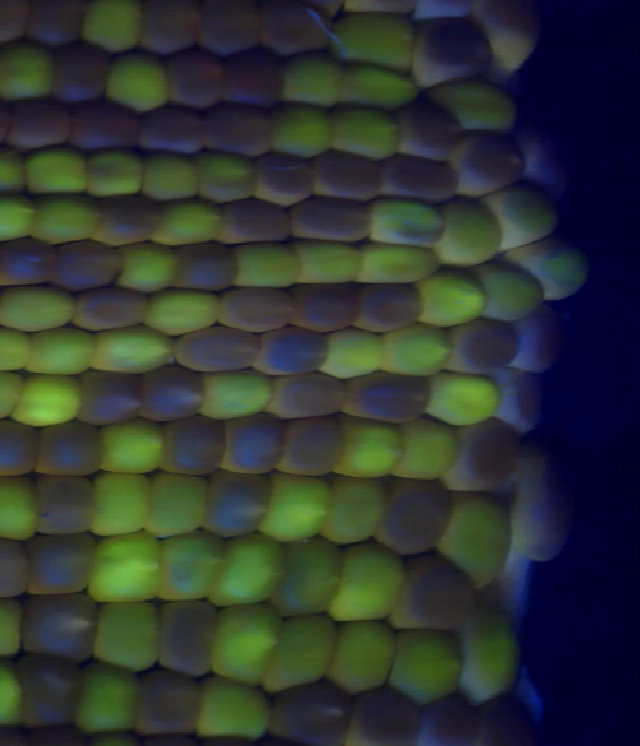fluorescent: (446, 488, 507, 582), (333, 545, 406, 620), (212, 531, 283, 608), (262, 614, 328, 694), (274, 531, 335, 617), (326, 613, 390, 694), (459, 614, 519, 700), (491, 178, 557, 253), (267, 466, 329, 542), (88, 602, 158, 669), (88, 533, 158, 600), (441, 201, 506, 272), (86, 465, 152, 534), (393, 639, 459, 705), (367, 191, 442, 249), (394, 416, 454, 484), (0, 285, 83, 334), (80, 663, 139, 730), (515, 240, 588, 291), (149, 471, 209, 533), (212, 605, 258, 685), (200, 685, 268, 739), (165, 530, 212, 608), (93, 418, 159, 473), (425, 372, 491, 426), (23, 142, 90, 195), (90, 331, 170, 375), (355, 242, 445, 281), (107, 65, 175, 116), (336, 17, 412, 62), (342, 420, 403, 475), (438, 78, 510, 124), (197, 150, 254, 208), (381, 324, 448, 373), (336, 104, 399, 156), (284, 53, 348, 104), (484, 262, 539, 321), (87, 1, 146, 55), (344, 60, 407, 110), (26, 326, 90, 375), (3, 45, 58, 102), (200, 373, 271, 417), (142, 149, 199, 201), (36, 198, 103, 242), (0, 478, 45, 543), (330, 478, 377, 540), (317, 330, 381, 373), (158, 202, 225, 242), (90, 152, 145, 200), (149, 291, 216, 330), (280, 110, 336, 156), (419, 287, 487, 324), (23, 384, 90, 421), (238, 249, 302, 285), (306, 240, 358, 278), (115, 245, 177, 275), (0, 194, 33, 237), (0, 330, 30, 375)
nonfluorescent: (410, 18, 504, 82), (375, 478, 448, 555), (26, 417, 107, 482), (20, 527, 94, 595), (394, 92, 464, 163), (22, 656, 77, 746), (264, 687, 352, 743), (157, 598, 215, 682), (452, 134, 525, 200), (275, 417, 349, 481), (415, 553, 473, 634), (28, 594, 100, 658), (167, 331, 259, 378), (351, 685, 419, 746), (293, 275, 367, 331), (71, 375, 155, 424), (287, 198, 378, 243), (155, 420, 228, 476), (206, 471, 265, 540), (341, 373, 425, 421), (158, 47, 217, 114), (142, 675, 197, 746), (309, 149, 383, 201), (457, 423, 516, 488), (470, 692, 540, 746), (7, 97, 78, 149), (90, 194, 165, 242), (215, 55, 277, 113), (138, 5, 204, 59), (202, 108, 275, 156), (217, 285, 300, 327), (206, 200, 287, 243), (357, 278, 423, 330), (255, 330, 326, 378), (264, 1, 329, 53), (80, 98, 148, 147), (458, 320, 510, 384), (196, 1, 264, 49), (225, 414, 278, 475), (51, 243, 122, 288), (22, 1, 86, 50), (417, 695, 475, 746), (255, 159, 315, 207), (32, 481, 90, 530), (54, 46, 106, 100), (144, 366, 197, 418), (271, 381, 344, 418), (171, 245, 232, 289), (87, 294, 154, 333), (151, 102, 204, 149), (0, 239, 51, 287), (503, 366, 541, 430), (391, 160, 448, 202), (0, 526, 33, 595), (0, 420, 33, 475)
